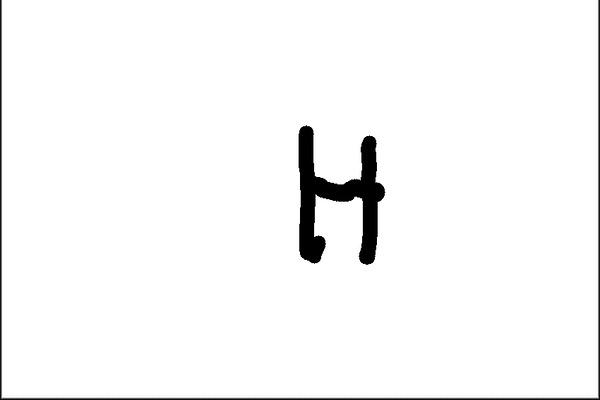H: (292, 118, 386, 266)
